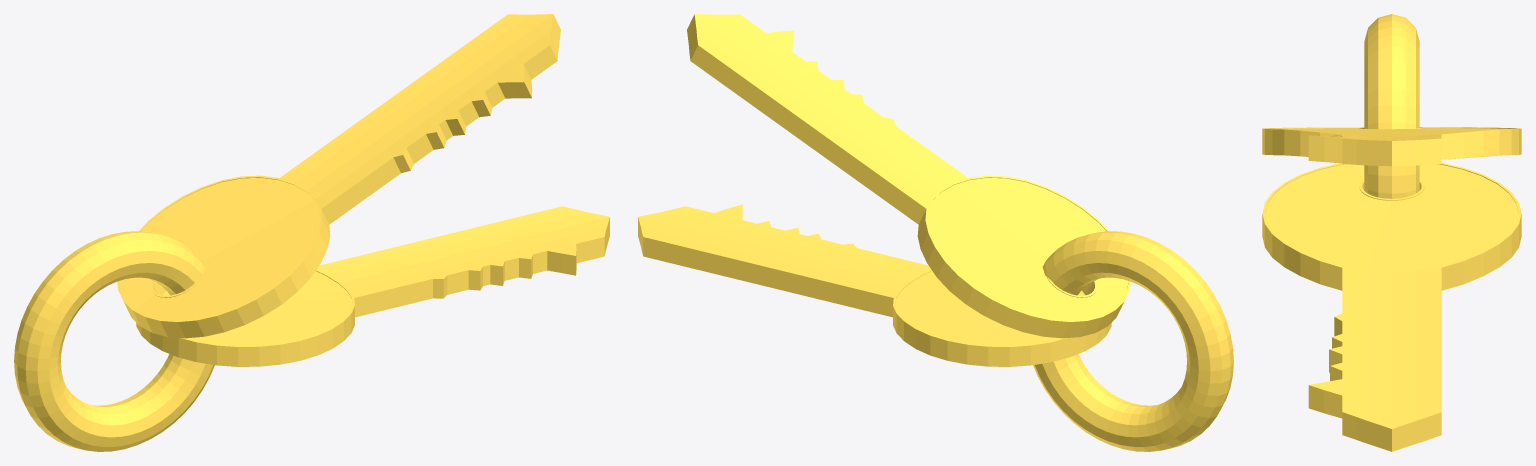
File: keys.fbx
3 renders of one model, left to right at view 1: azimuth 30°, elevation 25°; view 2: azimuth 150°, elevation 25°; view 3: azimuth 270°, elevation 25°, orthographic. The views are drawn at different scales.
Visible parts, largest first — view 1: Cylinder.001, Cylinder, Torus.001; view 2: Cylinder.001, Cylinder, Torus.001; view 3: Cylinder, Cylinder.001, Torus.001.
Boxes of the visible parts, box(x1,y1,x2,y2) form: Cylinder.001: box(117, 14, 560, 338); Cylinder: box(136, 206, 609, 366); Torus.001: box(14, 231, 214, 451); Cylinder.001: box(687, 14, 1130, 338); Cylinder: box(638, 204, 1111, 366); Torus.001: box(1033, 231, 1233, 451); Cylinder: box(1262, 163, 1521, 451); Cylinder.001: box(1262, 127, 1521, 166); Torus.001: box(1364, 14, 1419, 198).
Size of the model in its own units: 200 by 623 by 329.
